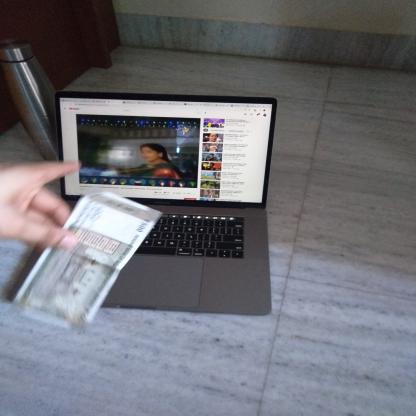New500Back: (23, 190, 149, 320)
